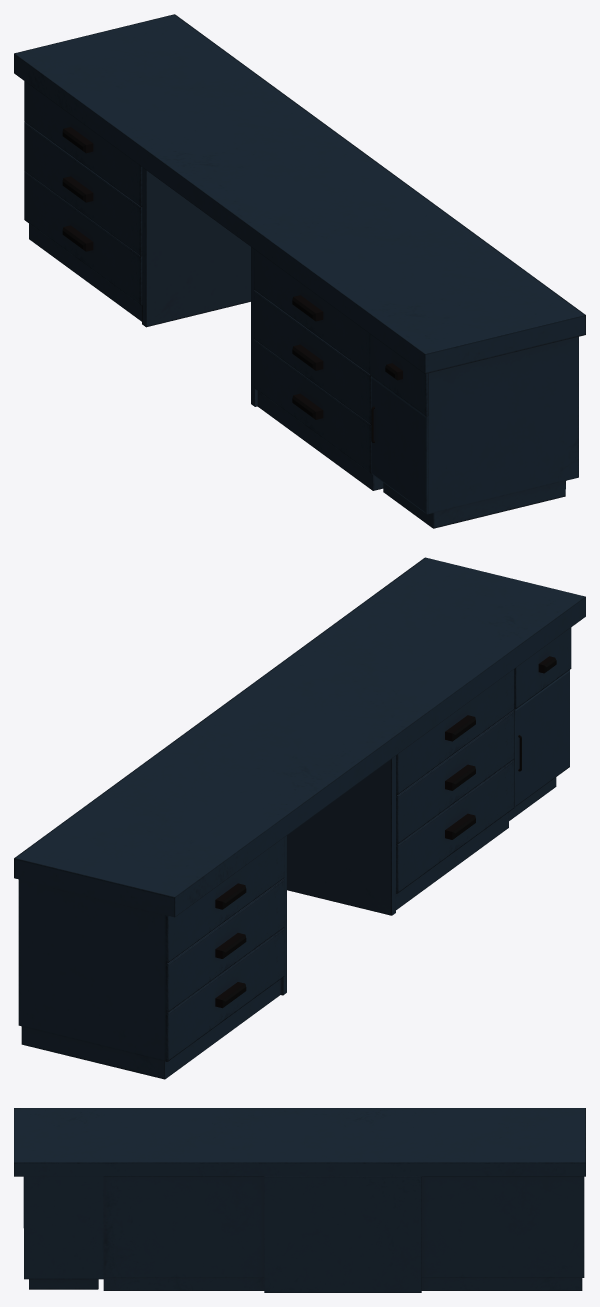
Rendered from SM_Table_001.fbx.
3 views of the same model, one above another, from view 1: azimuth 30°, elevation 25°; view 2: azimuth 150°, elevation 25°; view 3: azimuth 270°, elevation 25° (orthographic). The views are drawn at different scales.
Parts seen in each view (by area): view 1: SM_TableMain, SM_Table.015, SM_Table.014, SM_Table.012, SM_Table.013, SM_Table.010, SM_Table.016, SM_Table.011, SM_Table.003; view 2: SM_TableMain, SM_Table.015, SM_Table.014, SM_Table.012, SM_Table.013, SM_Table.010, SM_Table.016, SM_Table.011, SM_Table.003; view 3: SM_TableMain.
Part boxes in pixels (left/top/right/bottom): SM_TableMain: left=14, top=14, right=585, bottom=528; SM_Table.015: left=24, top=122, right=142, bottom=256; SM_Table.014: left=24, top=171, right=142, bottom=305; SM_Table.012: left=254, top=290, right=371, bottom=424; SM_Table.013: left=254, top=339, right=371, bottom=473; SM_Table.010: left=371, top=377, right=427, bottom=514; SM_Table.016: left=24, top=81, right=142, bottom=206; SM_Table.011: left=254, top=249, right=370, bottom=374; SM_Table.003: left=370, top=334, right=428, bottom=416; SM_TableMain: left=14, top=557, right=585, bottom=1079; SM_Table.015: left=165, top=878, right=284, bottom=1012; SM_Table.014: left=165, top=928, right=284, bottom=1061; SM_Table.012: left=396, top=710, right=514, bottom=844; SM_Table.013: left=396, top=759, right=514, bottom=893; SM_Table.010: left=514, top=670, right=569, bottom=807; SM_Table.016: left=165, top=838, right=284, bottom=963; SM_Table.011: left=396, top=669, right=514, bottom=795; SM_Table.003: left=514, top=627, right=571, bottom=709; SM_TableMain: left=14, top=1108, right=585, bottom=1292.
Size of the model in its own units: 117 by 128 by 512.
Materials: 3 (3 with a texture image).
